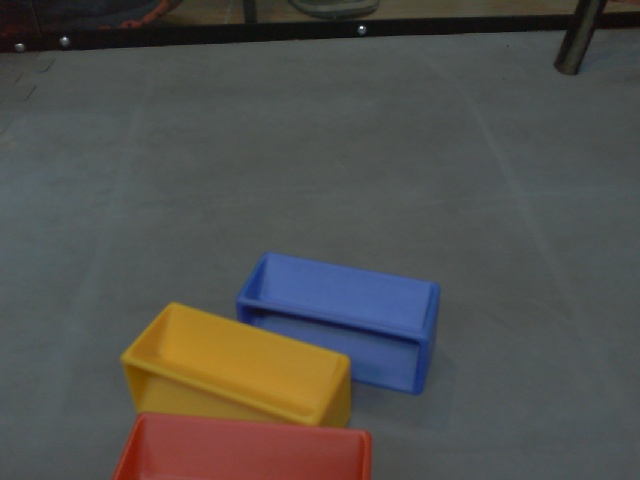BlueSample: (233, 245, 448, 399)
RedSample: (108, 411, 372, 480)
YellowSample: (117, 300, 354, 439)
